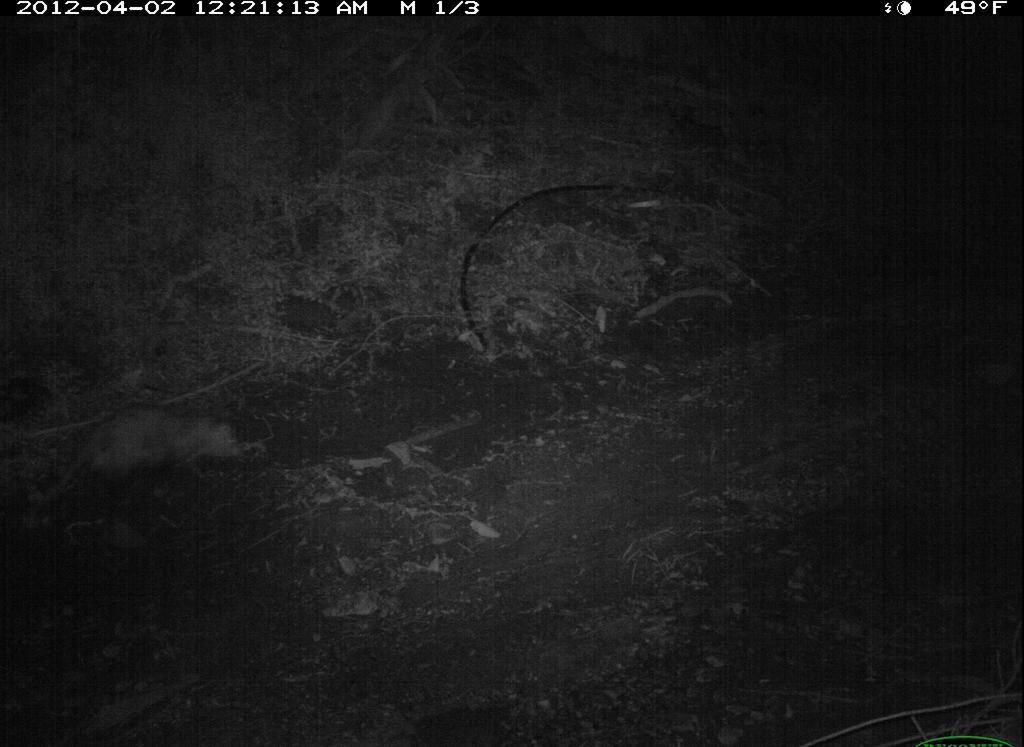opossum: (33, 399, 253, 497)
